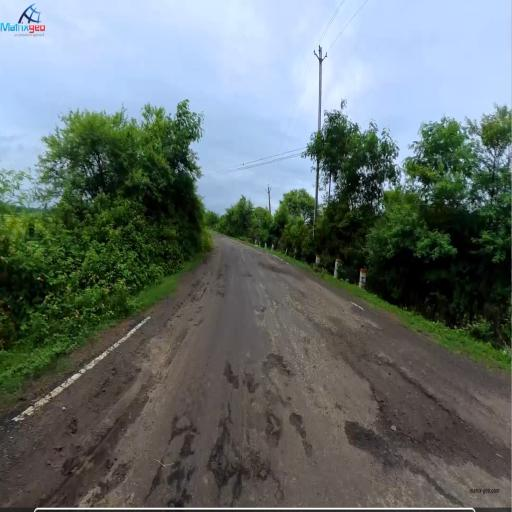ravelling: (190, 304, 452, 488)
